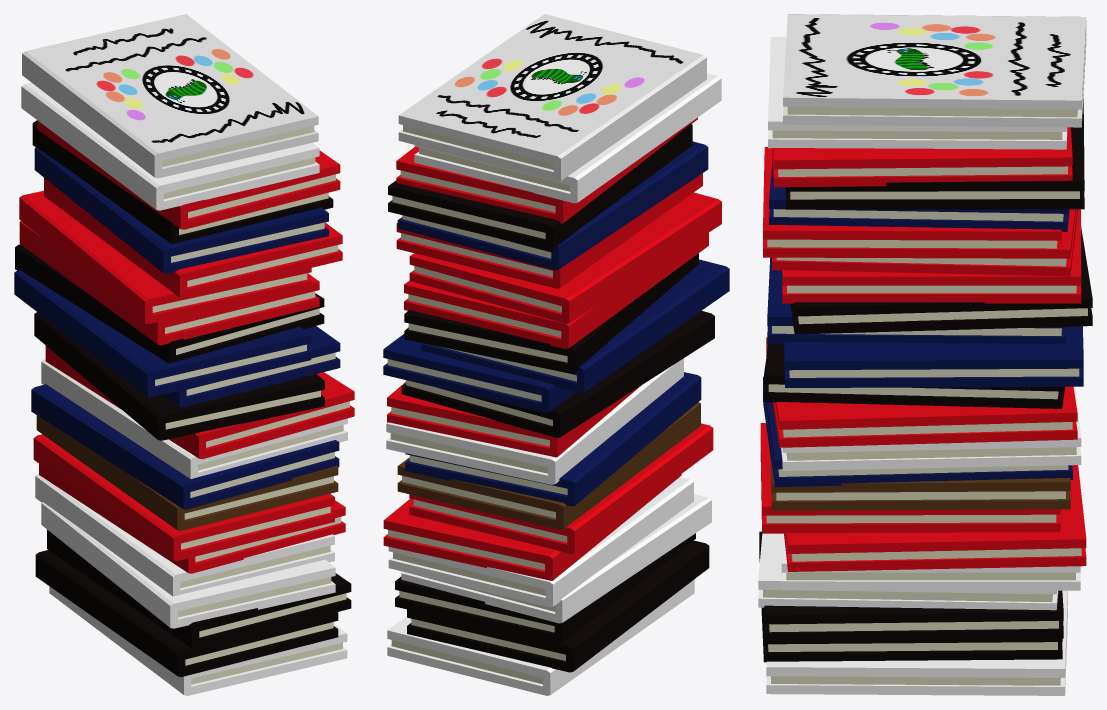
The model's file is Book Stack.glb.
The picture shows the model from 3 angles, left to right: view 1: azimuth 30°, elevation 25°; view 2: azimuth 150°, elevation 25°; view 3: azimuth 270°, elevation 25°; orthographic projection. The views are drawn at different scales.
Parts seen in each view (by area): view 1: SM_Books; view 2: SM_Books; view 3: SM_Books.
Boxes of the visible parts, x1=… form: SM_Books: x1=14, y1=14, x2=354, y2=695; SM_Books: x1=383, y1=14, x2=729, y2=695; SM_Books: x1=758, y1=14, x2=1092, y2=695.
Bounding box in the file's own units: 0.7788 × 1.91 × 0.99.
7 materials, 1 textured.
